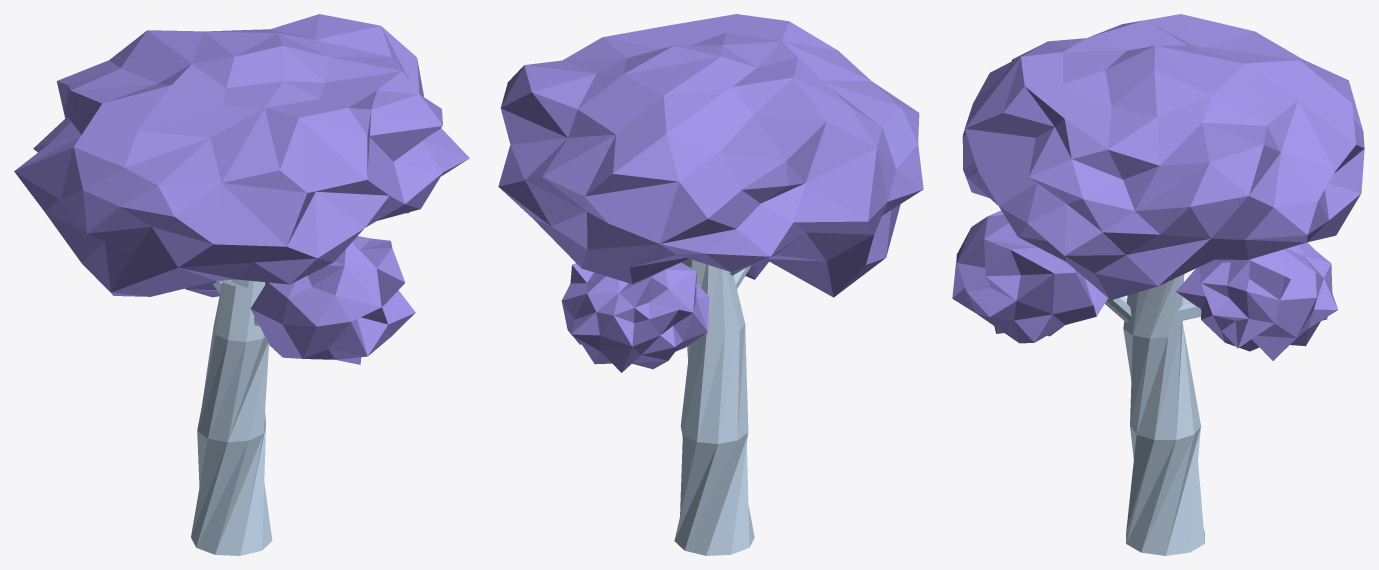
The model's file is LushTree3.fbx.
The picture shows the model from 3 angles, left to right: view 1: azimuth 30°, elevation 25°; view 2: azimuth 150°, elevation 25°; view 3: azimuth 270°, elevation 25°; orthographic projection. The views are drawn at different scales.
Visible parts, largest first — view 1: Icosphere.001; view 2: Icosphere.001; view 3: Icosphere.001.
Boxes of the visible parts, x1,y1,x2,y2 form: Icosphere.001: [14, 14, 469, 555]; Icosphere.001: [498, 14, 923, 555]; Icosphere.001: [952, 14, 1364, 555].
Bounding box in the file's own units: 1083 × 1309 × 995.
